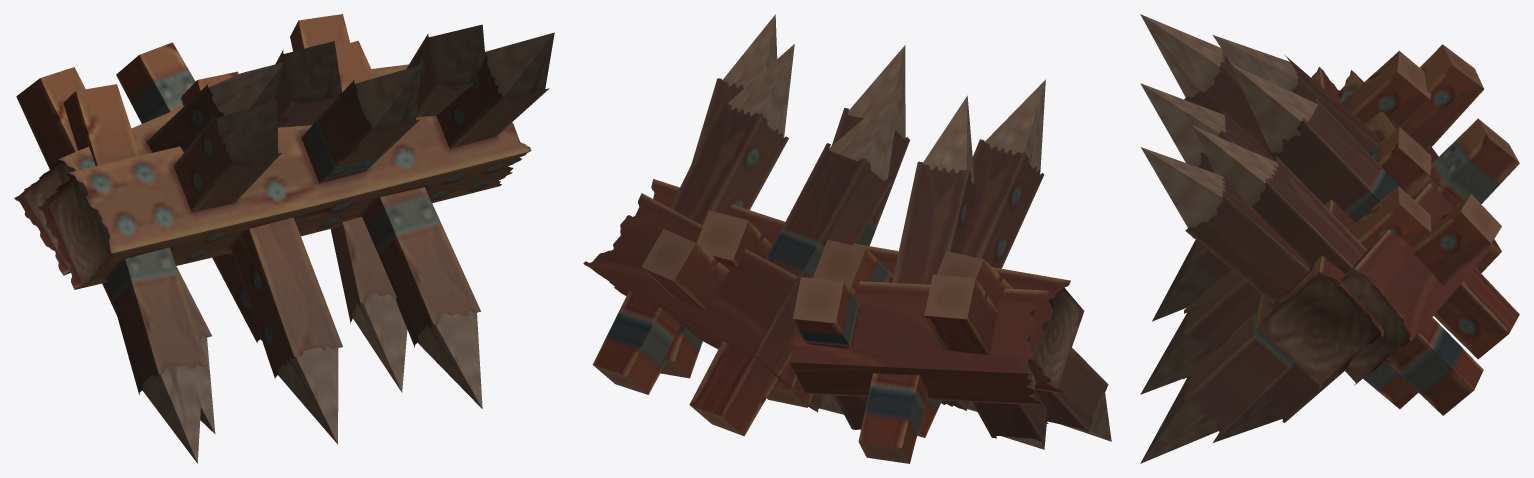
The model's file is barricade.glb.
3 views of the same model, side by side, from view 1: azimuth 30°, elevation 25°; view 2: azimuth 150°, elevation 25°; view 3: azimuth 270°, elevation 25° (orthographic). The views are drawn at different scales.
Visible parts, largest first — view 1: castle_fire.barricade-MeshSets[barricade_x2].Mesh[0], castle_fire.barricade-MeshSets[barricade_x2_busted].Mesh[0]; view 2: castle_fire.barricade-MeshSets[barricade_x2_busted].Mesh[0], castle_fire.barricade-MeshSets[barricade_x2].Mesh[0]; view 3: castle_fire.barricade-MeshSets[barricade_x2_busted].Mesh[0], castle_fire.barricade-MeshSets[barricade_x2].Mesh[0].
Part boxes in pixels (x1=…): castle_fire.barricade-MeshSets[barricade_x2].Mesh[0]: x1=38, y1=32, x2=554, y2=463; castle_fire.barricade-MeshSets[barricade_x2_busted].Mesh[0]: x1=14, y1=14, x2=485, y2=433; castle_fire.barricade-MeshSets[barricade_x2_busted].Mesh[0]: x1=583, y1=44, x2=1048, y2=463; castle_fire.barricade-MeshSets[barricade_x2].Mesh[0]: x1=651, y1=14, x2=1111, y2=441; castle_fire.barricade-MeshSets[barricade_x2_busted].Mesh[0]: x1=1192, y1=35, x2=1519, y2=442; castle_fire.barricade-MeshSets[barricade_x2].Mesh[0]: x1=1140, y1=14, x2=1431, y2=463.
Size of the model in its own units: 2.07 by 1.54 by 1.51.
Materials: 1 (1 with a texture image).
